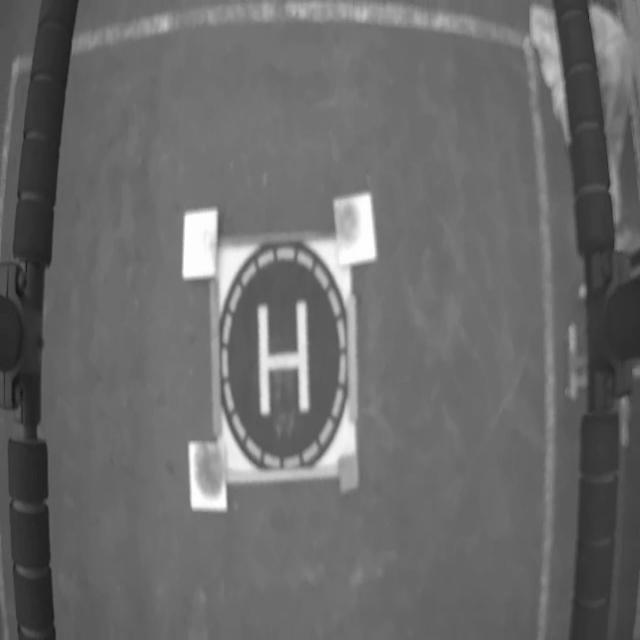Helipad: (258, 301, 311, 419)
